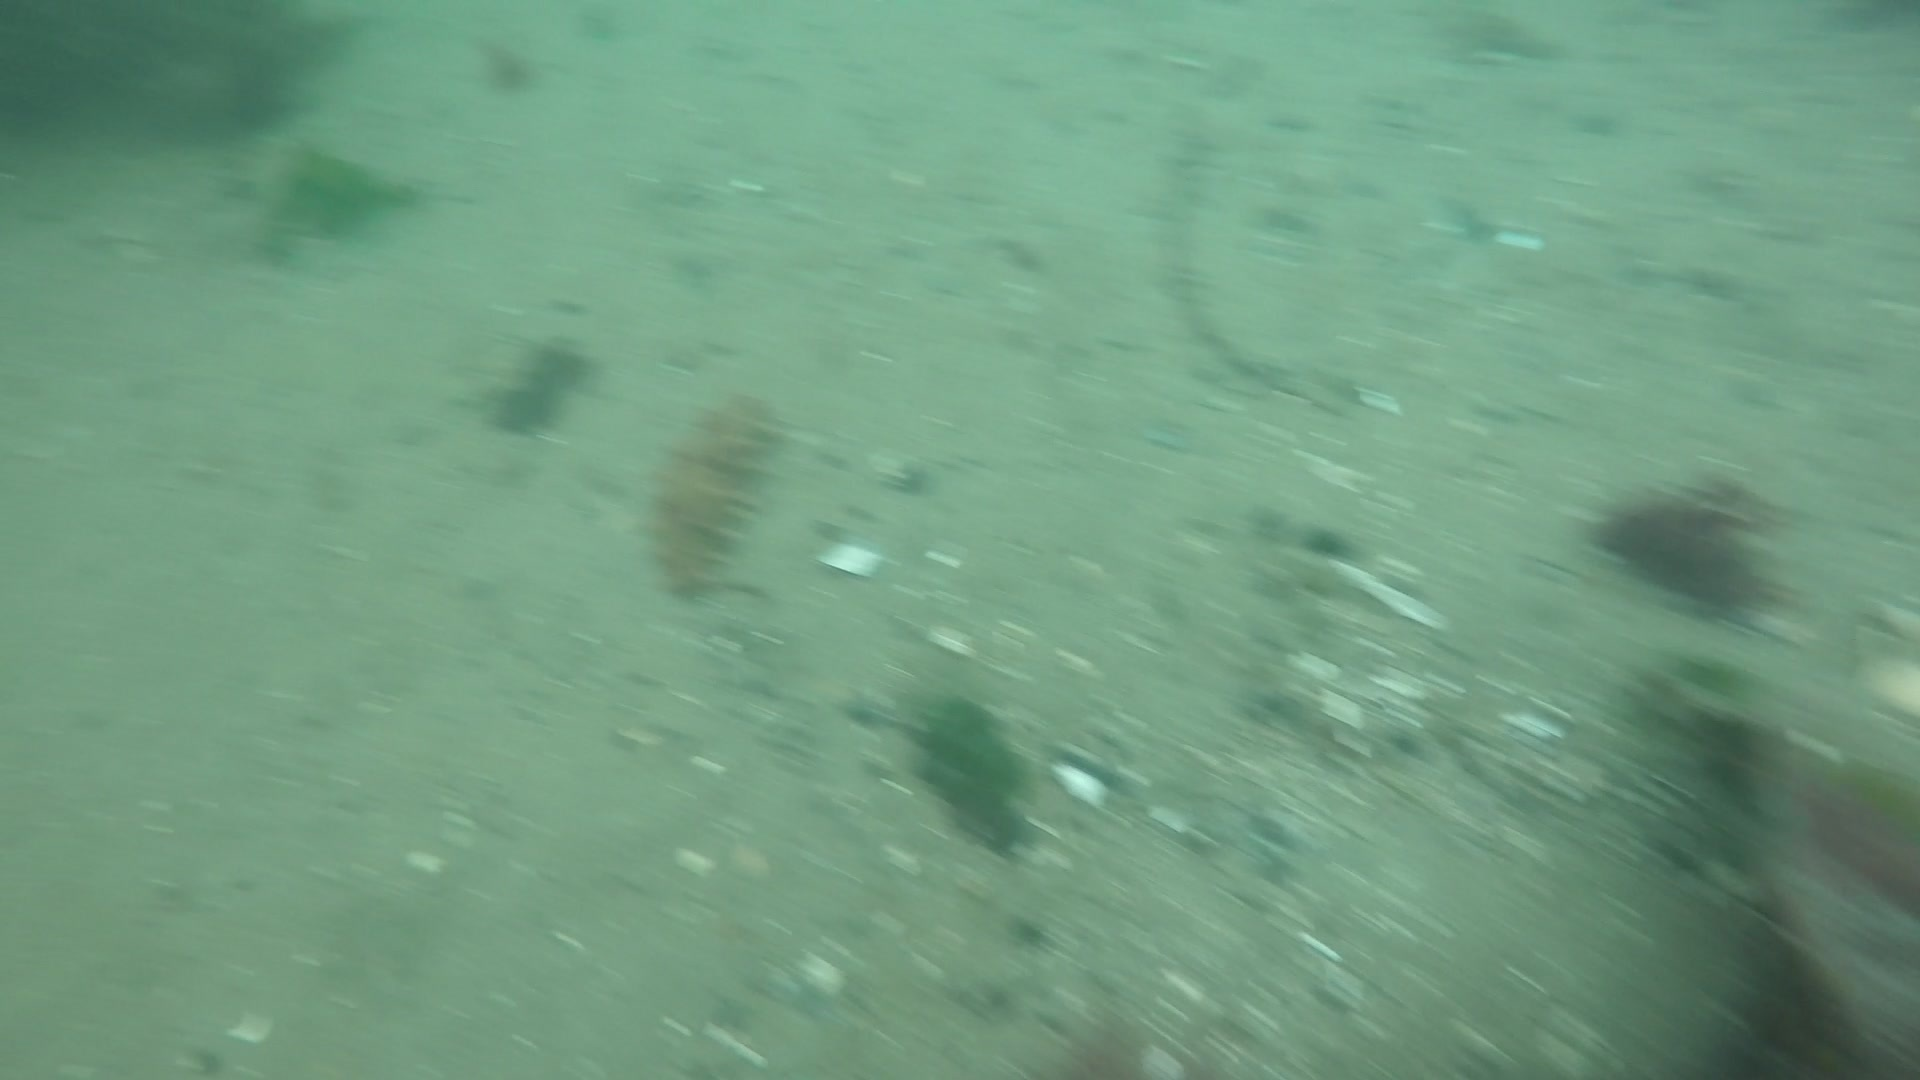holothurian: (640, 385, 787, 607)
